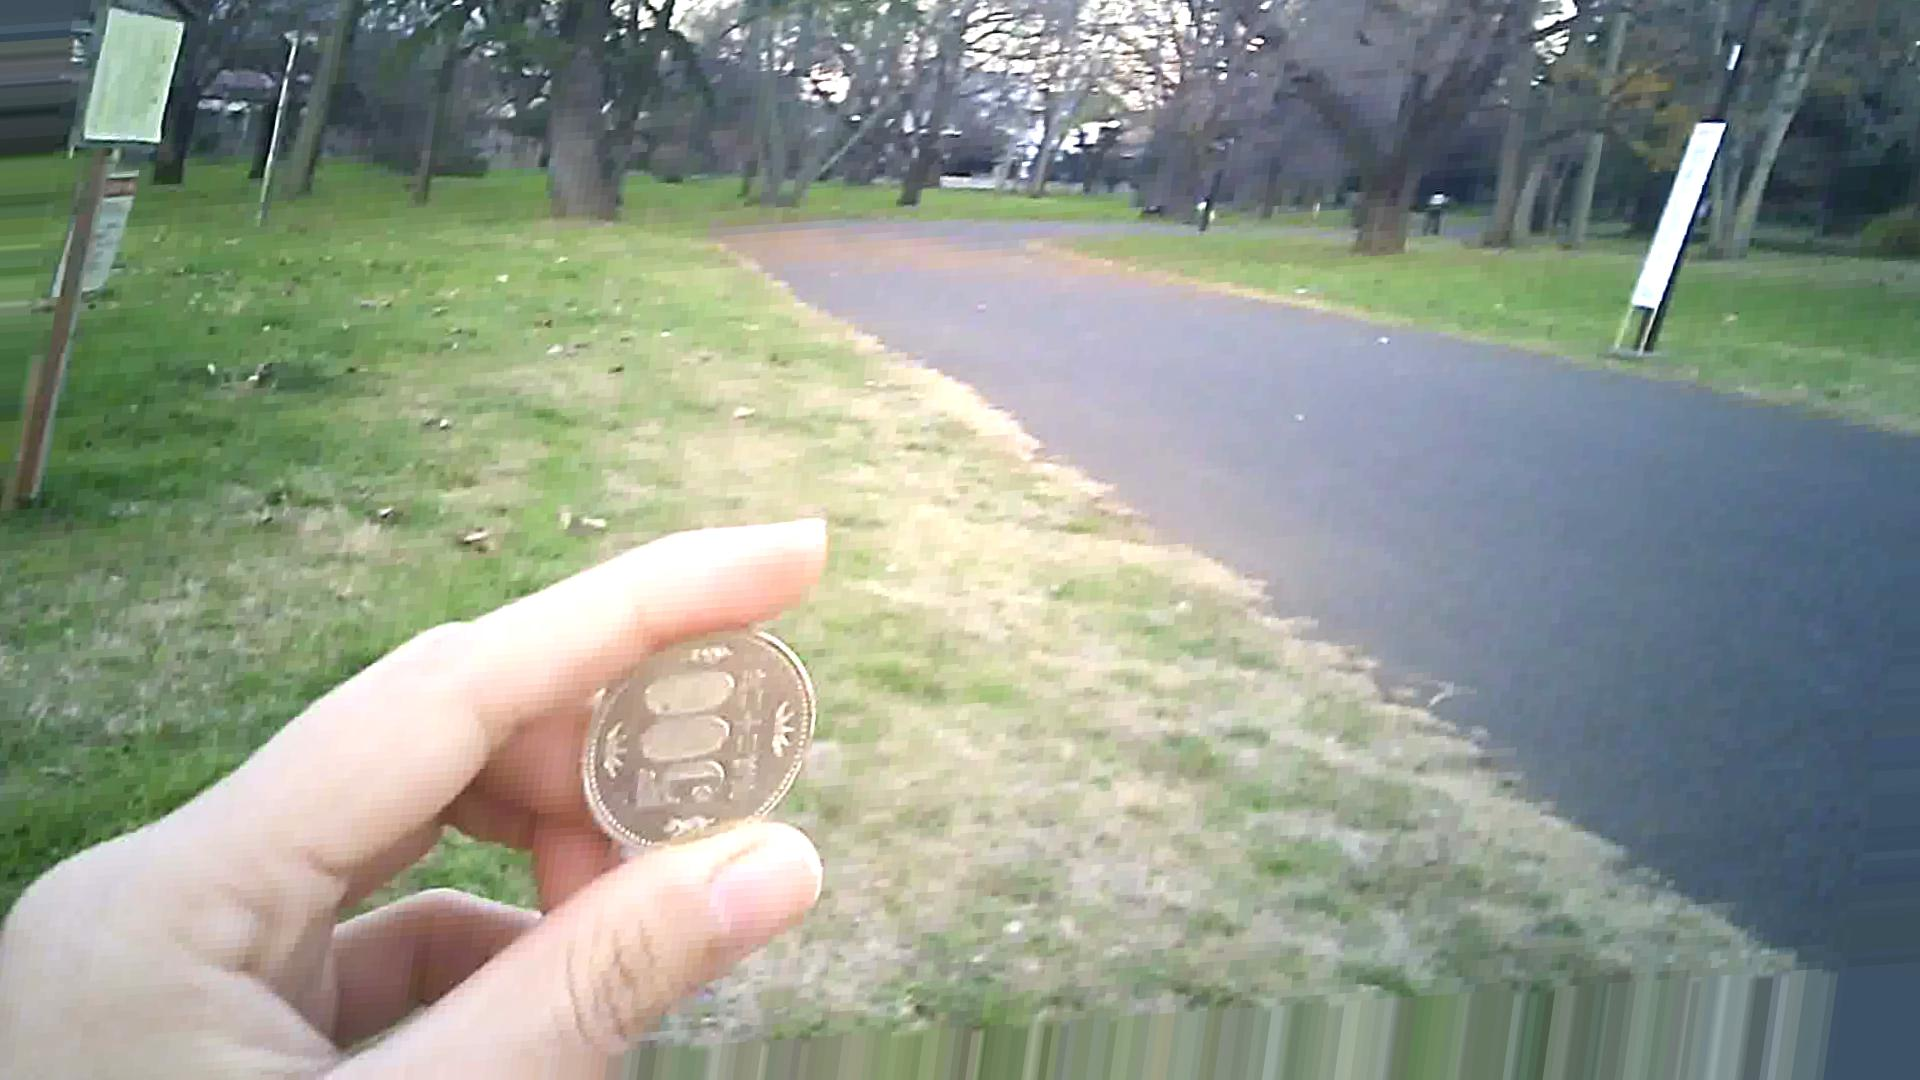500 Yen: (574, 615, 815, 861)
